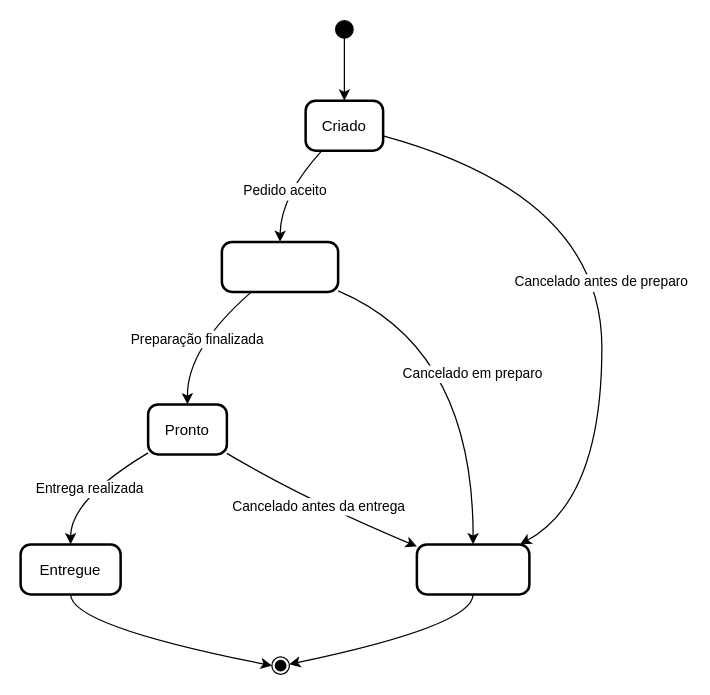
Some shapes in this 710 by 695 pixel diagram are drawn without their labels. The shapes that lost their labels are listed below. From the top down, each one's centre as x and y in pixels, then its label:
At point 279,266: "EmPreparo".
At point 472,568: "Cancelado".
